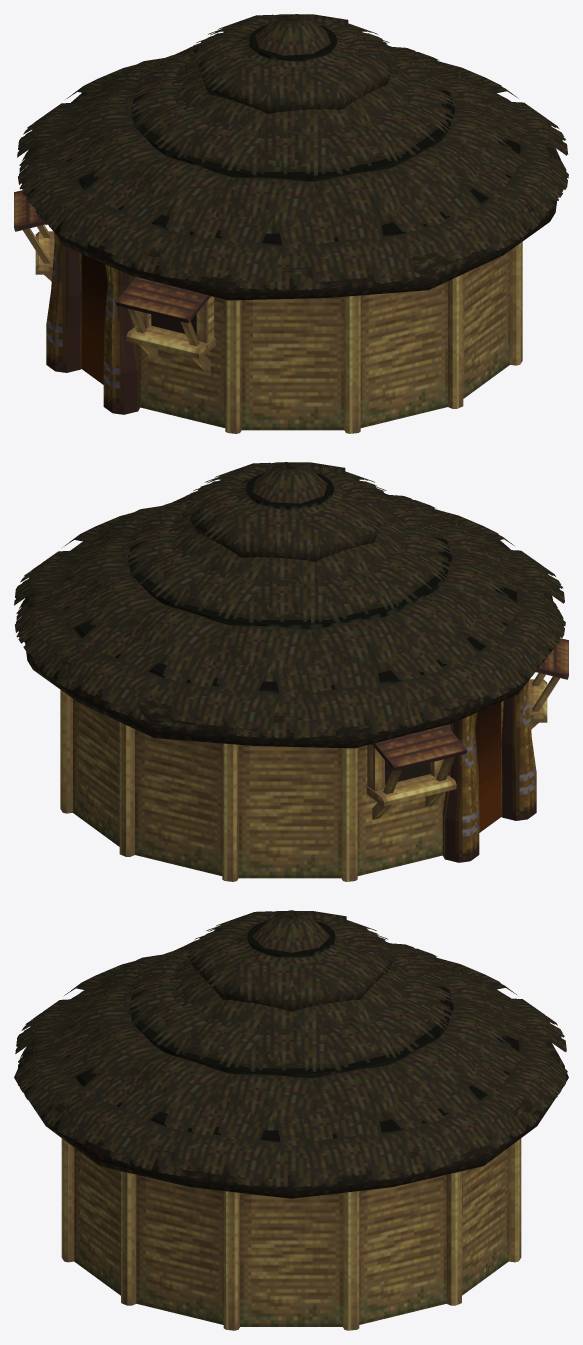
File: EnvBdgMD_Island_A_Outdoor_House_A.FBX
The picture shows the model from 3 angles, top to bottom: view 1: azimuth 30°, elevation 25°; view 2: azimuth 150°, elevation 25°; view 3: azimuth 270°, elevation 25°; orthographic projection.
Visible parts, largest first — view 1: EnvBdgMD_Island_A_Outdoor_House_A; view 2: EnvBdgMD_Island_A_Outdoor_House_A; view 3: EnvBdgMD_Island_A_Outdoor_House_A.
Part boxes in pixels (x1=…): EnvBdgMD_Island_A_Outdoor_House_A: x1=14, y1=14, x2=568, y2=433; EnvBdgMD_Island_A_Outdoor_House_A: x1=14, y1=462, x2=568, y2=881; EnvBdgMD_Island_A_Outdoor_House_A: x1=14, y1=910, x2=568, y2=1330.
Bounding box in the file's own units: 724 × 465 × 727.
Materials: 2 (2 with a texture image).
